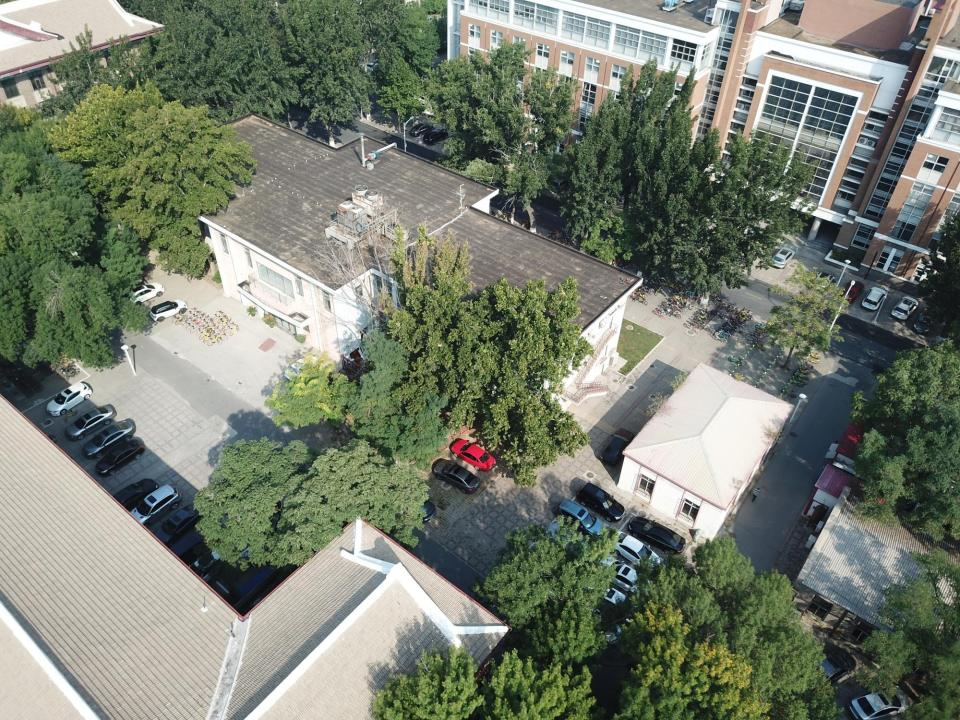car: (378, 481, 437, 523), (627, 515, 687, 555), (130, 485, 182, 530), (576, 478, 626, 522), (599, 556, 653, 596), (82, 419, 136, 459), (167, 518, 218, 559), (153, 504, 202, 546), (608, 531, 661, 569), (188, 540, 234, 583), (558, 498, 607, 538), (848, 688, 908, 720), (65, 405, 118, 441), (804, 652, 855, 689), (432, 459, 481, 497), (95, 439, 145, 476), (112, 478, 160, 516), (46, 382, 95, 417), (546, 522, 592, 557), (599, 426, 636, 469), (451, 439, 496, 472), (127, 282, 166, 307), (149, 300, 189, 322), (598, 586, 633, 611), (911, 306, 940, 334), (838, 279, 865, 309), (860, 285, 890, 310), (891, 296, 919, 321), (813, 267, 836, 296), (770, 246, 796, 270)
